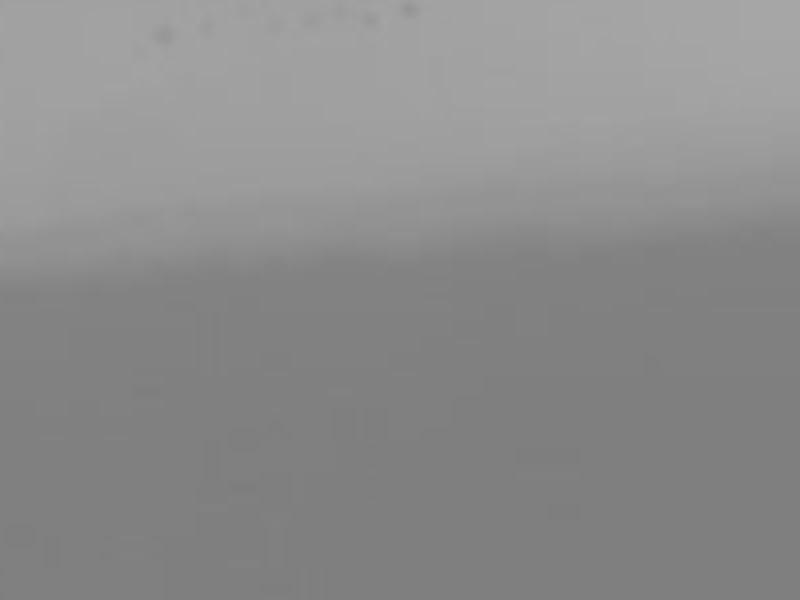defect: (153, 18, 178, 47), (363, 9, 390, 33), (193, 13, 216, 40), (264, 10, 287, 32), (399, 1, 422, 21)
